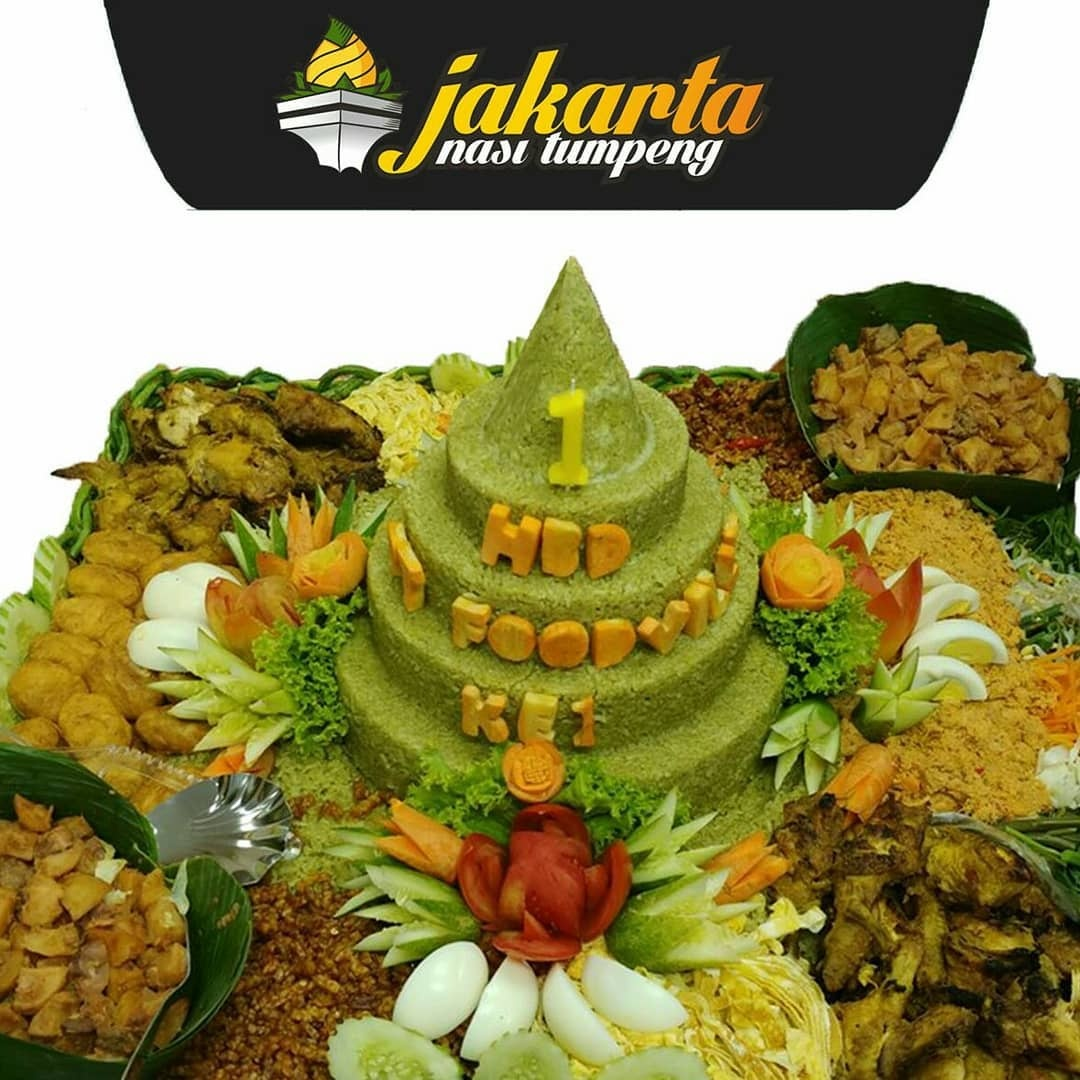nasi_tumpeng: (0, 257, 1079, 1077)
